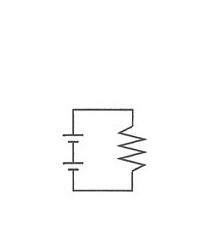resistor: (111, 116, 152, 179)
